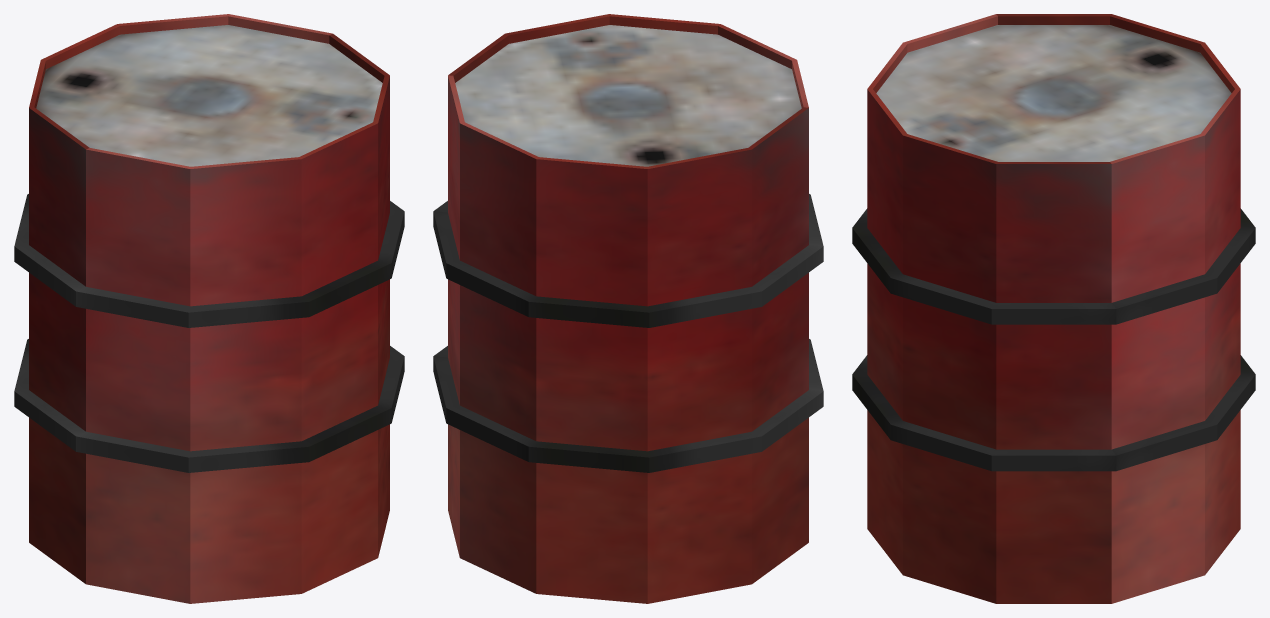
Rendered from old_barrel_01.fbx.
3 renders of one model, left to right at view 1: azimuth 30°, elevation 25°; view 2: azimuth 150°, elevation 25°; view 3: azimuth 270°, elevation 25°, orthographic.
Parts seen in each view (by area): view 1: Barrel; view 2: Barrel; view 3: Barrel.
Part boxes in pixels (x1,y1,x2,y2): Barrel: [14, 14, 404, 603]; Barrel: [433, 14, 823, 603]; Barrel: [852, 14, 1255, 603].
Bounding box in the file's own units: 0.9914 × 1.04 × 1.25.
